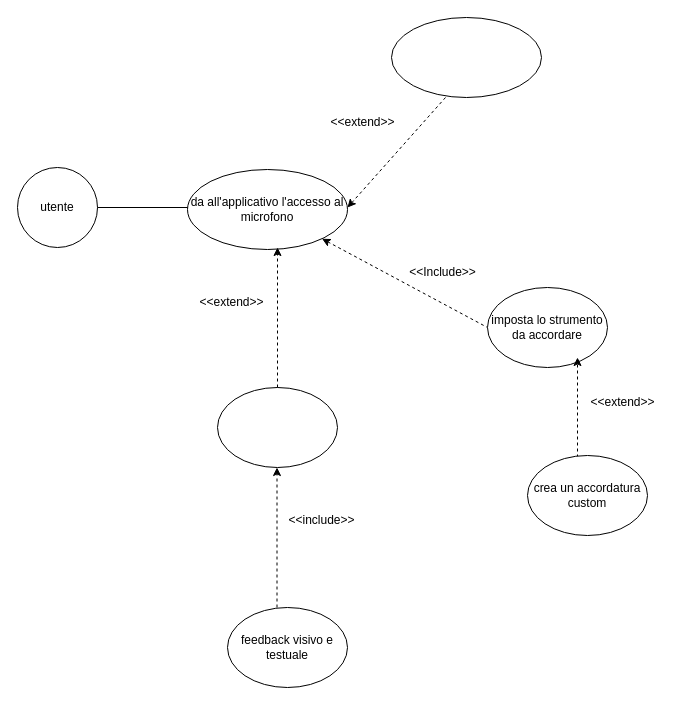
This 685x705 diagram has some shape labels left out. Each missing label, with the centre of its shape:
imposta la nota La di riferimento: the point at 466,57
Suona una corda: the point at 277,427
